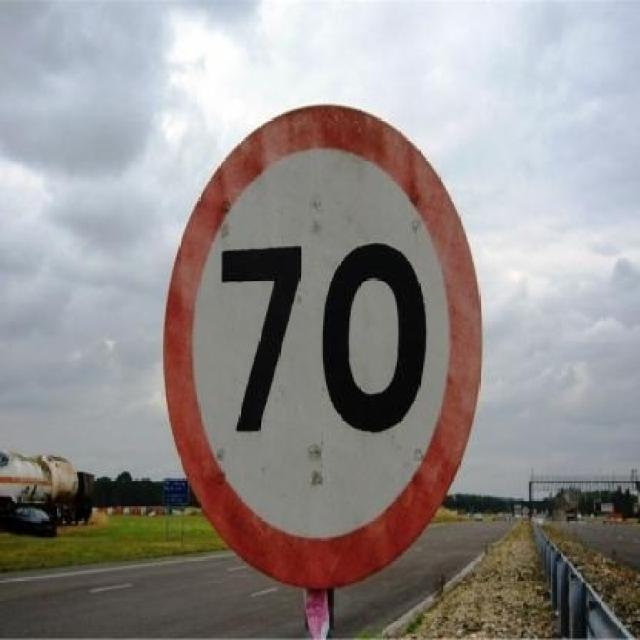forb_speed_over_70: (164, 104, 479, 584)
